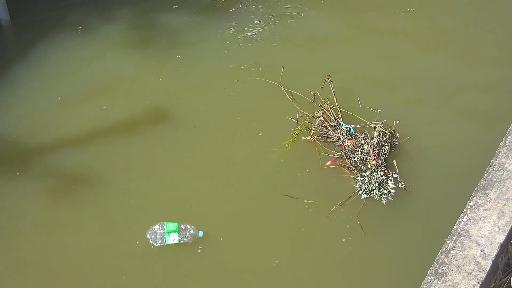plastic: (139, 218, 207, 248)
twig: (250, 67, 406, 208), (199, 0, 261, 10)
